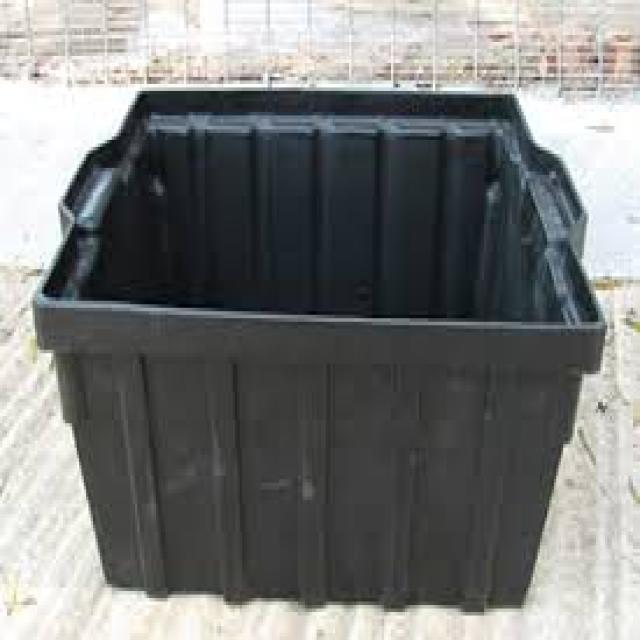basket: (29, 89, 612, 612)
